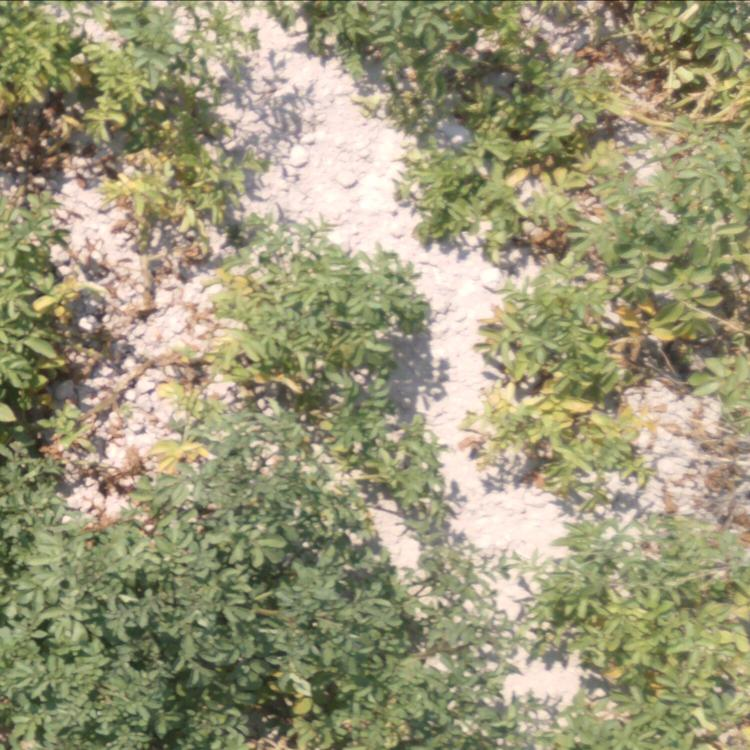healthy: (1, 494, 479, 750), (247, 432, 462, 496)
stressed: (409, 119, 749, 294), (299, 1, 748, 119), (541, 510, 750, 750), (246, 243, 436, 425), (1, 137, 91, 479), (1, 1, 257, 116), (473, 303, 631, 481), (91, 113, 246, 249), (154, 247, 238, 474), (646, 298, 738, 385)
